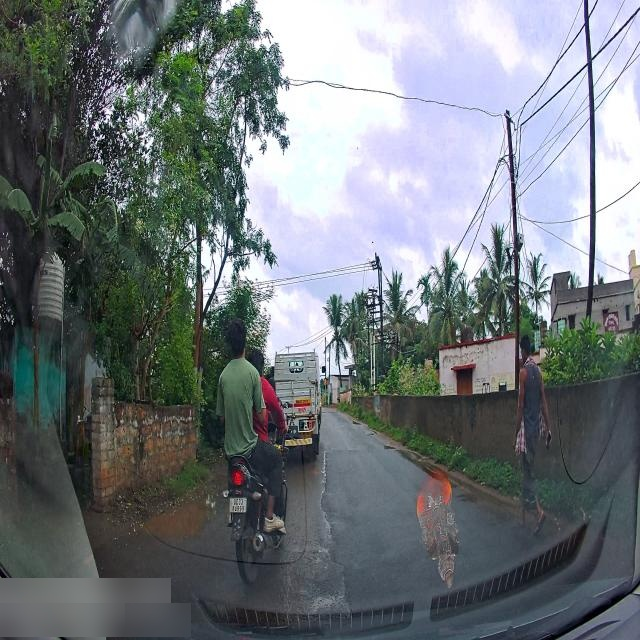pothole: (150, 506, 216, 536), (462, 488, 476, 502), (380, 438, 396, 443), (350, 419, 362, 425)
